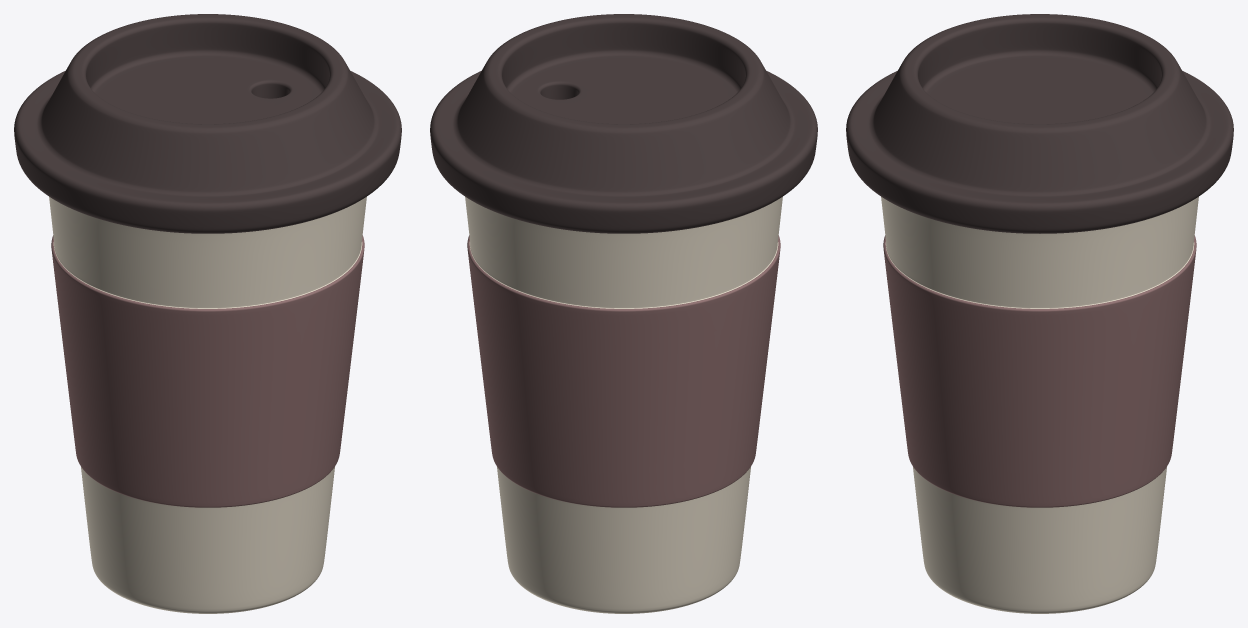
File: coffee_cup.glb
3 renders of one model, left to right at view 1: azimuth 30°, elevation 25°; view 2: azimuth 150°, elevation 25°; view 3: azimuth 270°, elevation 25°, orthographic.
Parts seen in each view (by area): view 1: Cylinder.011; view 2: Cylinder.011; view 3: Cylinder.011.
Boxes of the visible parts, x1=… form: Cylinder.011: x1=14, y1=14, x2=401, y2=613; Cylinder.011: x1=430, y1=14, x2=817, y2=613; Cylinder.011: x1=846, y1=14, x2=1233, y2=613.
Bounding box in the file's own units: 1.25 × 1.76 × 1.25.
